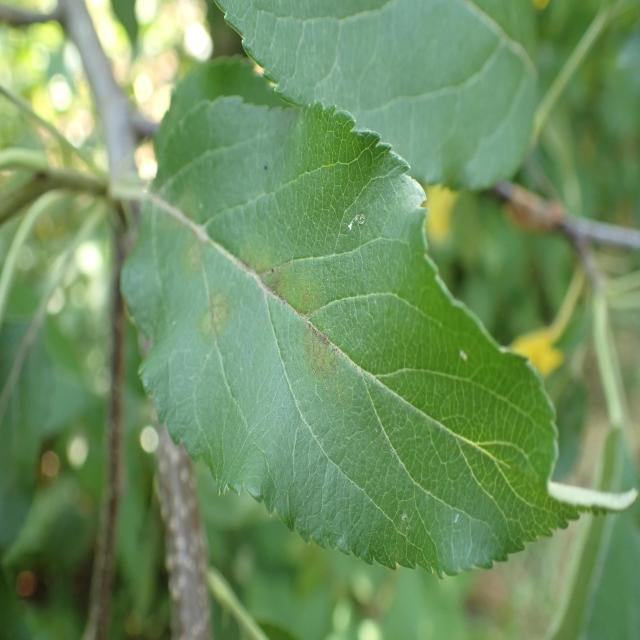scab: (158, 180, 457, 490)
